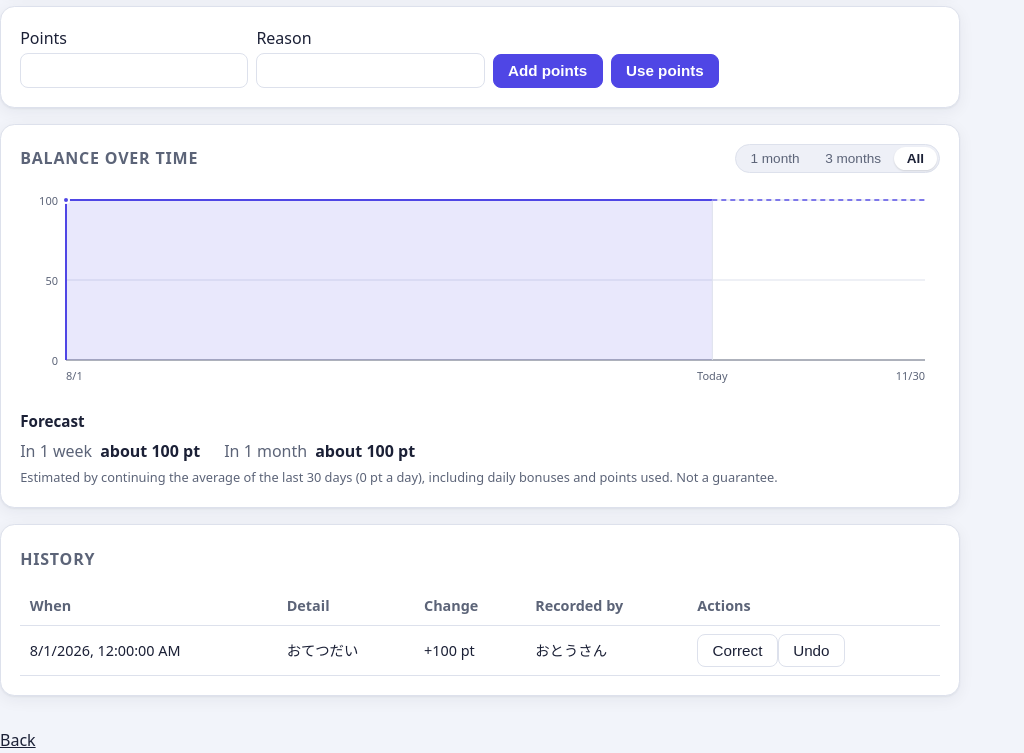
it: LedgerPage › 訂正を送ると、直した内容と符号でその記録を指して送る
(page scrolled)
Click the button "Correct": (738, 650) [697,634,778,667]
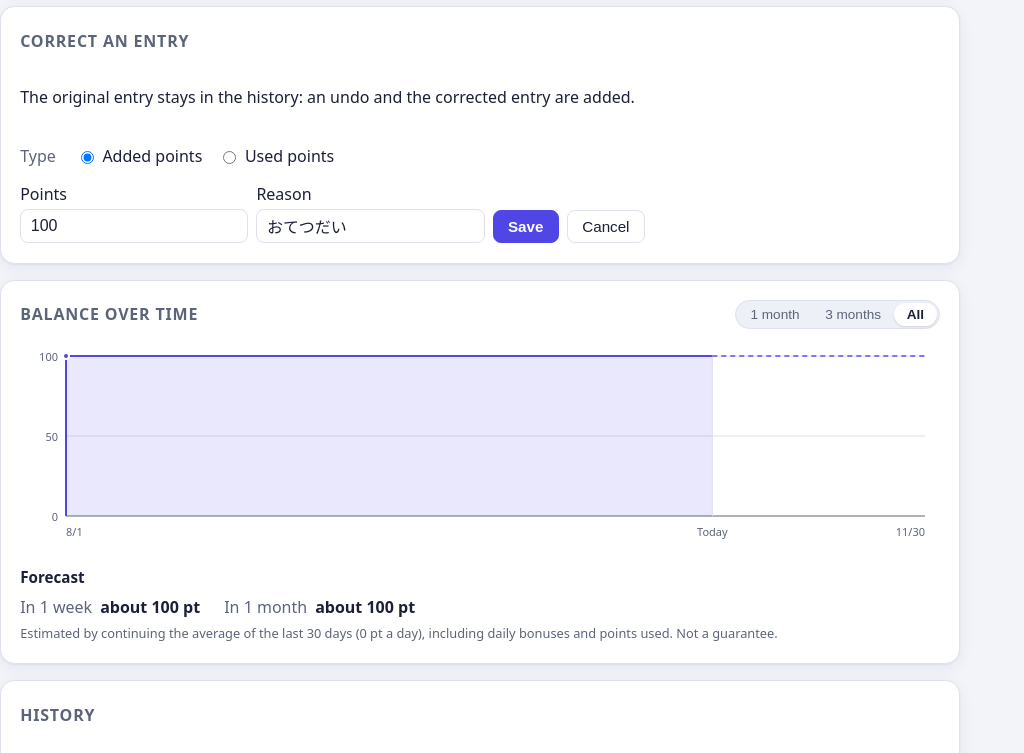
Replace the text in the number field labelled "Points" with "50": (134, 226) [20,209,248,244]
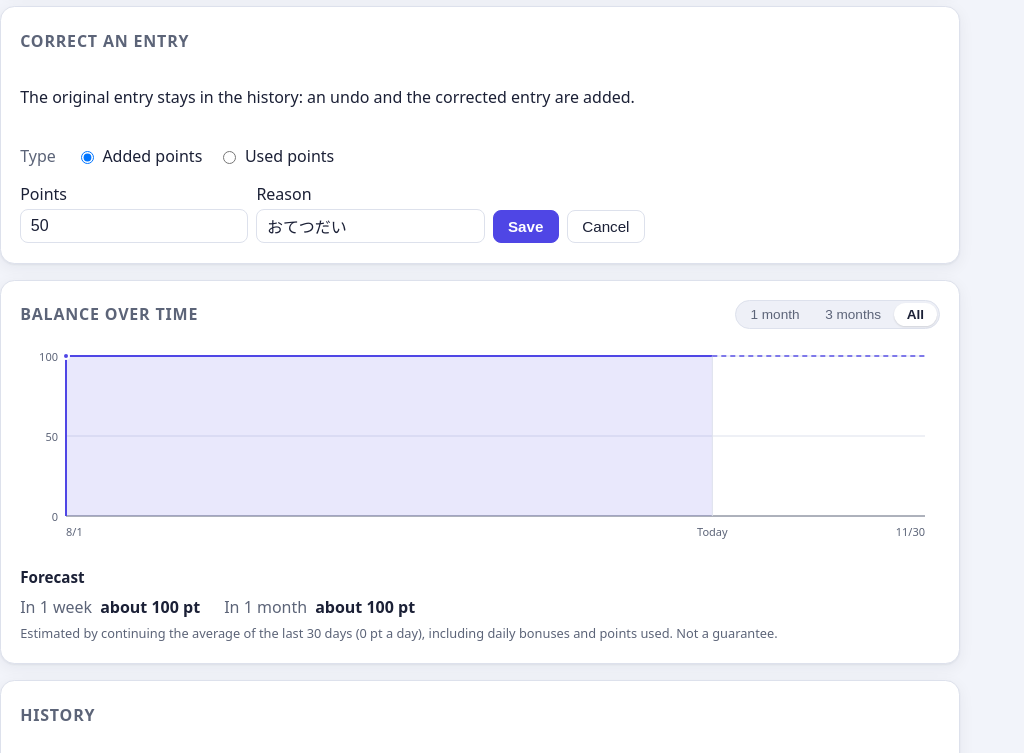
Click the button "Save": (526, 227) [493,210,559,244]
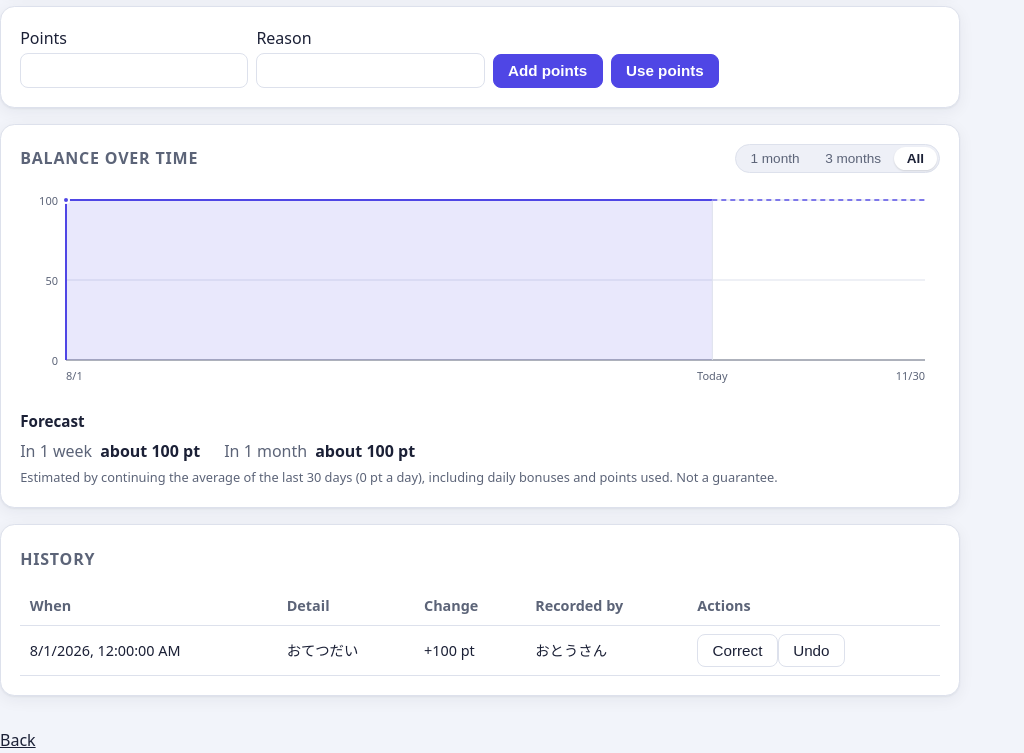
Check: the button "Add points" is shown, box [493,54,603,88]
